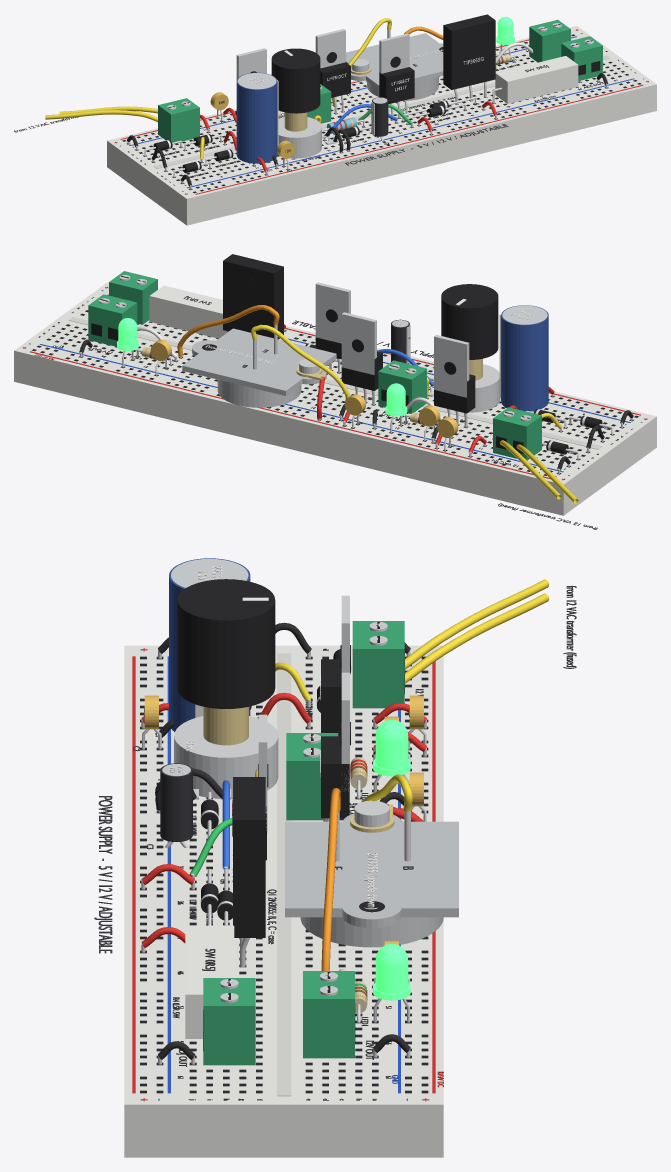
Rendered from power-supply-breadboard-schematic-order.glb.
3 renders of one model, top to bottom at view 1: azimuth 30°, elevation 25°; view 2: azimuth 150°, elevation 25°; view 3: azimuth 270°, elevation 25°, orthographic. The views are drawn at different scales.
Visible parts, largest first — view 1: Breadboard 830, Q2 body, C1 can, R2 knob, Socket holes, R4 body, Q1 TO-3 flange, J1 block, J3 block, R2 body, U1 body, J2 block (+16 smaller); view 2: Breadboard 830, Q1 TO-3 flange, C1 can, Q2 body, R2 knob, Socket holes, R4 body, U5 tab, U6 tab, J1 block, U1 tab, J4 block (+15 smaller); view 3: Breadboard 830, Q1 TO-3 flange, R2 knob, Socket holes, Centre channel, Q2 body, R2 body, J2 block, J1 block, J3 block, R4 body, J4 block (+19 smaller).
Boxes of the visible parts, x1,y1,x2,y2 form: Breadboard 830: (107, 26, 656, 225); Q2 body: (443, 14, 495, 89); C1 can: (236, 72, 277, 163); R2 knob: (271, 48, 320, 113); Socket holes: (122, 34, 641, 193); R4 body: (495, 56, 578, 103); Q1 TO-3 flange: (346, 33, 443, 89); J1 block: (158, 98, 199, 142); J3 block: (529, 19, 570, 62); R2 body: (277, 117, 321, 158); U1 body: (379, 67, 414, 103); J2 block: (561, 36, 602, 80); Breadboard 830: (14, 282, 656, 515); Q1 TO-3 flange: (182, 328, 336, 395); C1 can: (501, 305, 548, 411); Q2 body: (223, 254, 283, 339); R2 knob: (441, 284, 498, 359); Socket holes: (32, 310, 638, 476); R4 body: (149, 285, 228, 338); U5 tab: (341, 312, 376, 375); U6 tab: (434, 335, 469, 397); J1 block: (493, 407, 541, 460); U1 tab: (315, 282, 350, 343); J4 block: (378, 360, 426, 413); Breadboard 830: (124, 645, 443, 1157); Q1 TO-3 flange: (285, 821, 458, 917); R2 knob: (177, 579, 275, 708); Socket holes: (140, 656, 428, 1093); Centre channel: (277, 653, 291, 1096); Q2 body: (233, 777, 265, 937); R2 body: (174, 716, 278, 798); J2 block: (203, 978, 255, 1065); J1 block: (352, 621, 404, 708); J3 block: (303, 971, 354, 1058); R4 body: (185, 925, 234, 1038); J4 block: (286, 733, 338, 820).
Size of the model in its own units: 0.188 by 0.0391 by 0.074.
